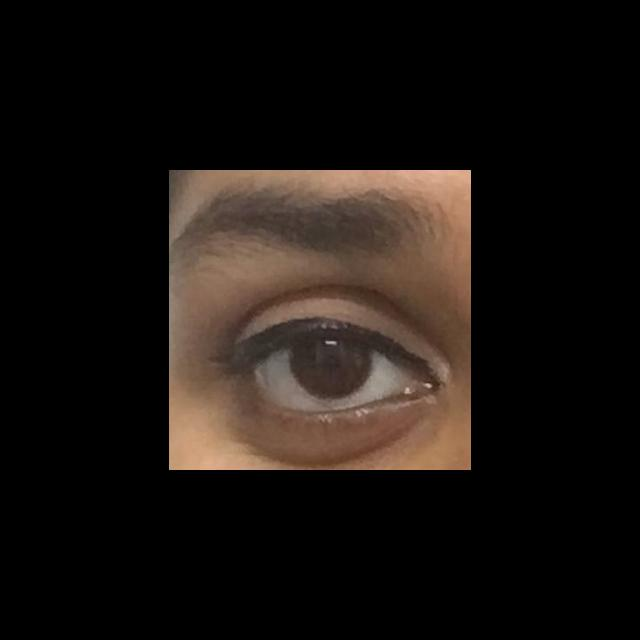eye: (252, 332, 408, 412)
iris: (290, 336, 374, 401)
